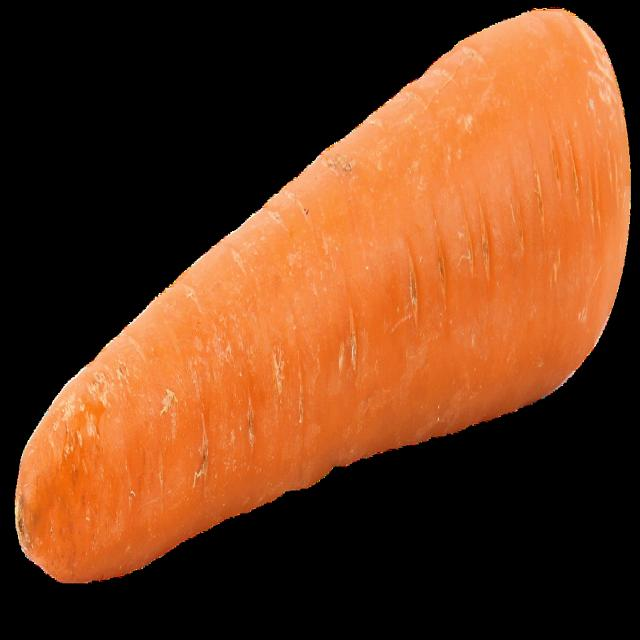Carrot: (16, 8, 636, 580)
